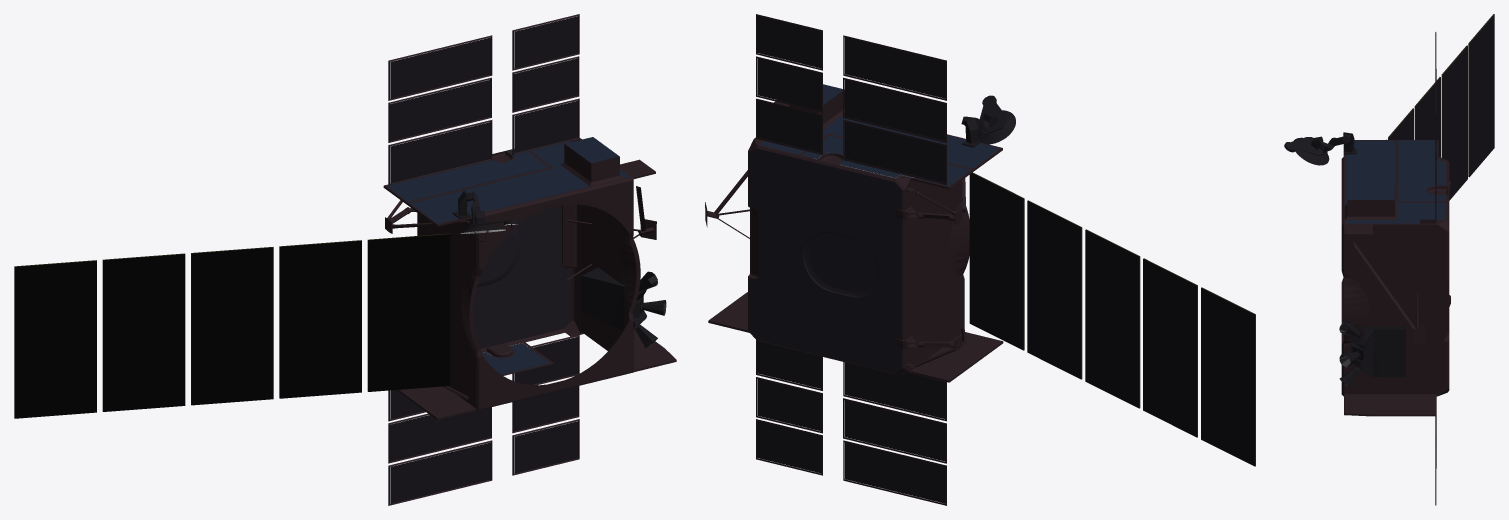
Rendered from SpaceBusPrueba.fbx.
The picture shows the model from 3 angles, left to right: view 1: azimuth 30°, elevation 25°; view 2: azimuth 150°, elevation 25°; view 3: azimuth 270°, elevation 25°; orthographic projection. The views are drawn at different scales.
Parts seen in each view (by area): view 1: nu_jwst_sc; view 2: nu_jwst_sc; view 3: nu_jwst_sc.
Boxes of the visible parts, bbox=[...] form: nu_jwst_sc: bbox=[14, 14, 676, 505]; nu_jwst_sc: bbox=[705, 14, 1255, 505]; nu_jwst_sc: bbox=[1284, 14, 1494, 505].
Bounding box in the file's own units: 903 × 313 × 644.
